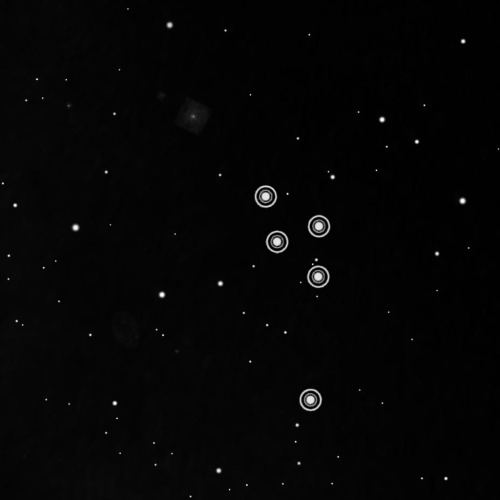delphinus: (246, 178, 337, 419)
